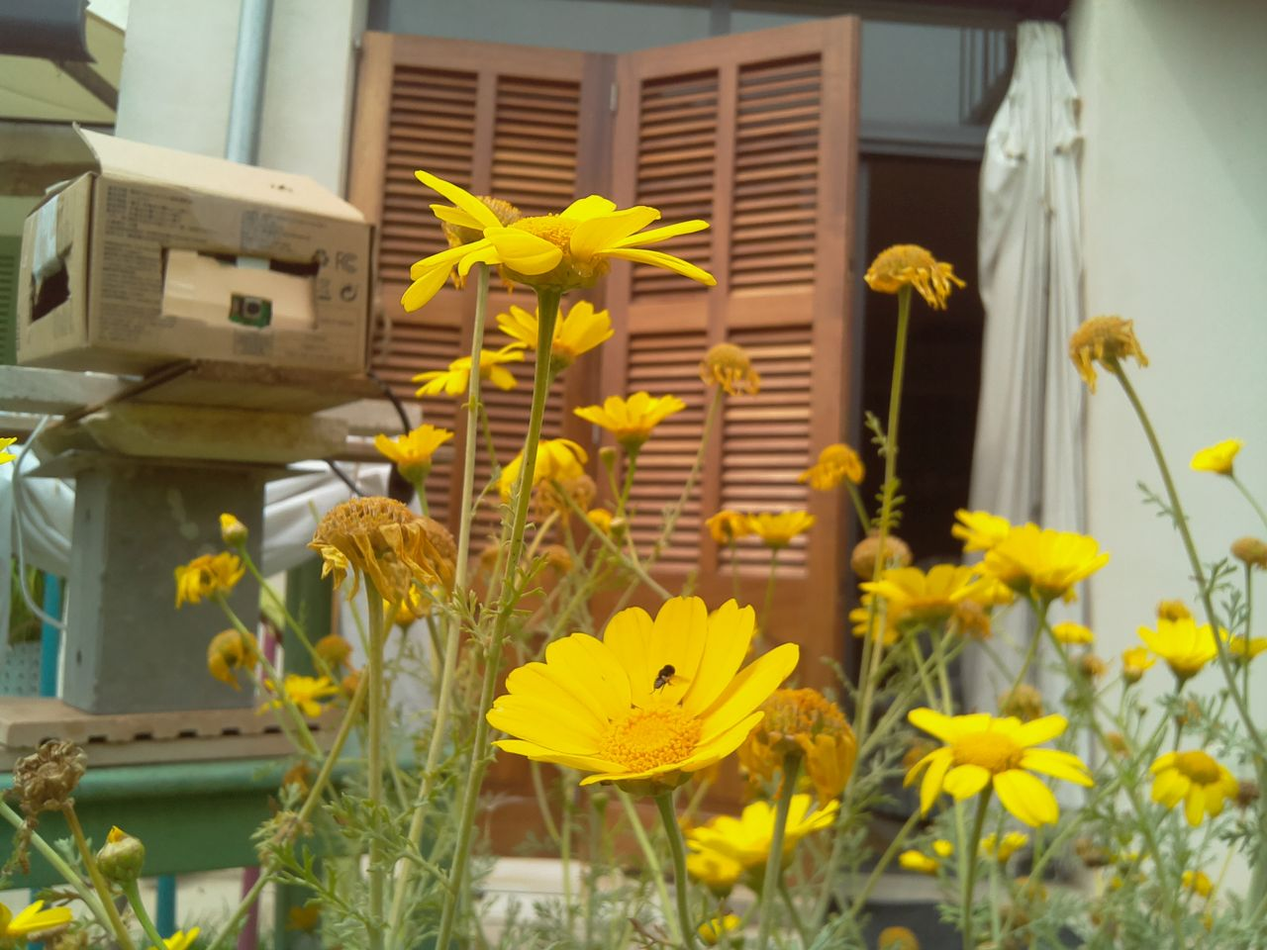Fly: (647, 660, 697, 715)
